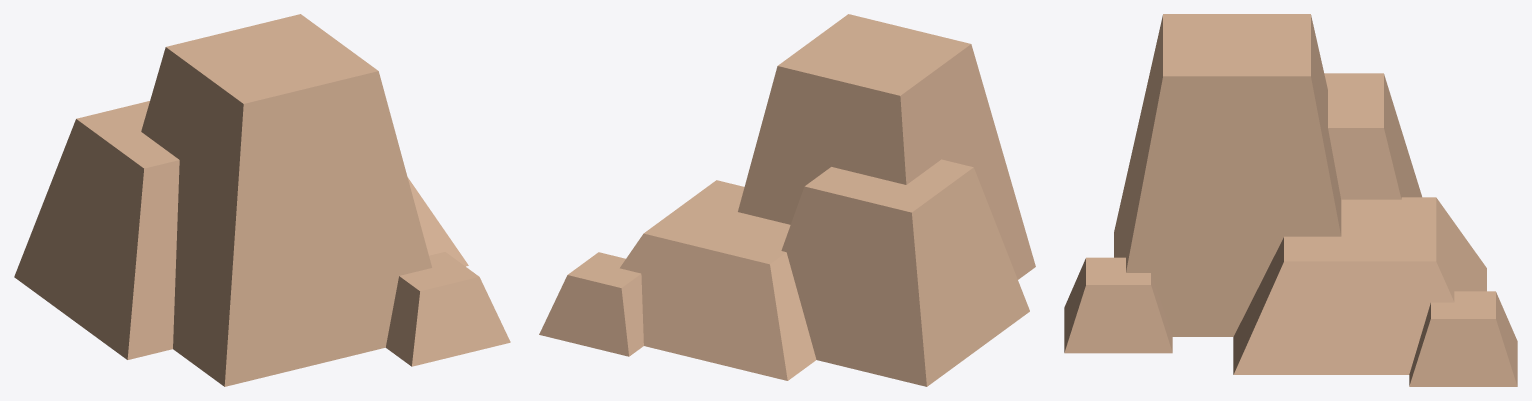
File: rocksSmall.glb
3 views of the same model, side by side, from view 1: azimuth 30°, elevation 25°; view 2: azimuth 150°, elevation 25°; view 3: azimuth 270°, elevation 25° (orthographic). The views are drawn at different scales.
Parts seen in each view (by area): view 1: rocksSmall; view 2: rocksSmall; view 3: rocksSmall.
Boxes of the visible parts, x1,y1,x2,y2 form: rocksSmall: [14, 14, 510, 386]; rocksSmall: [539, 14, 1035, 386]; rocksSmall: [1064, 14, 1517, 386].
Size of the model in its own units: 6.69 by 4.27 by 7.32.
